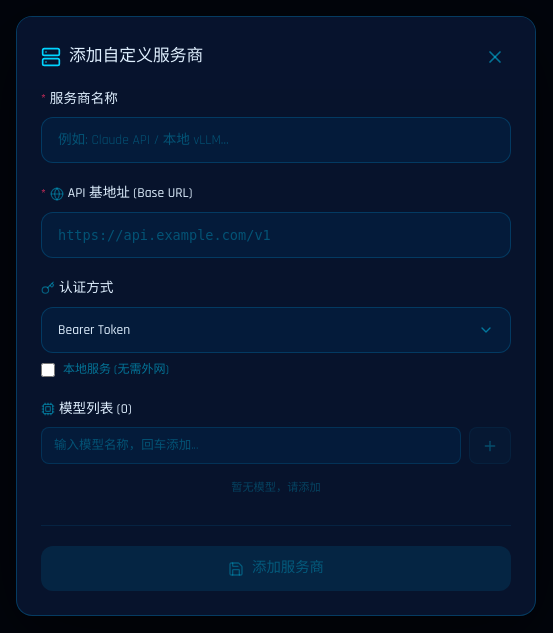
ProviderEditorModal › 新增模式表单 › 切换认证方式为 API Key Header
Click the button "Bearer Token" at (94, 330), box [41,306,511,353]
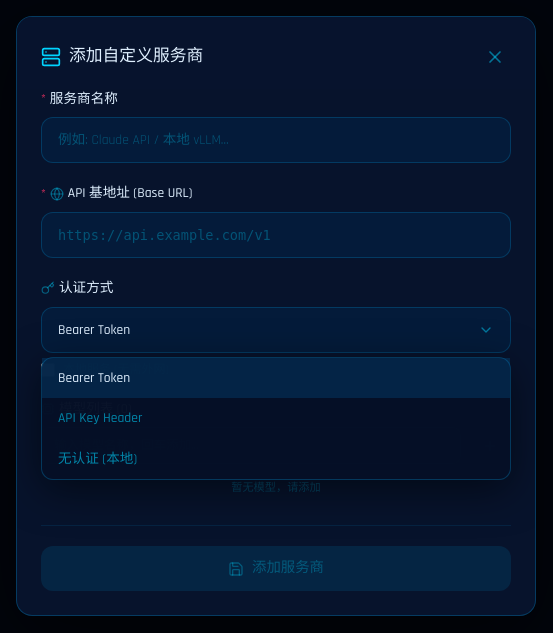
Click the button "API Key Header" at (100, 418), box [42,398,510,439]
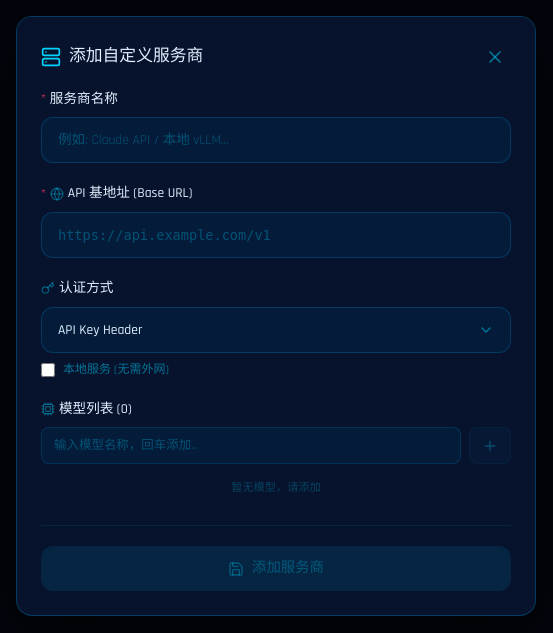
Check: the text "API Key Header" is shown, box [58,320,142,340]
